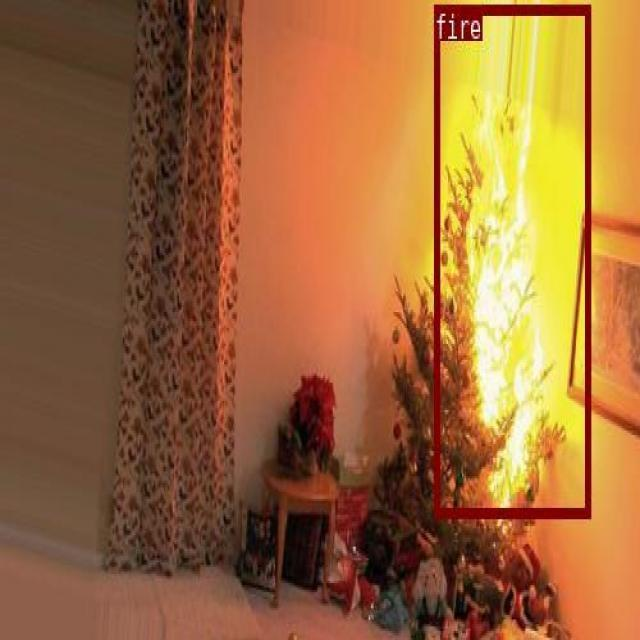fire: (434, 2, 589, 516)
